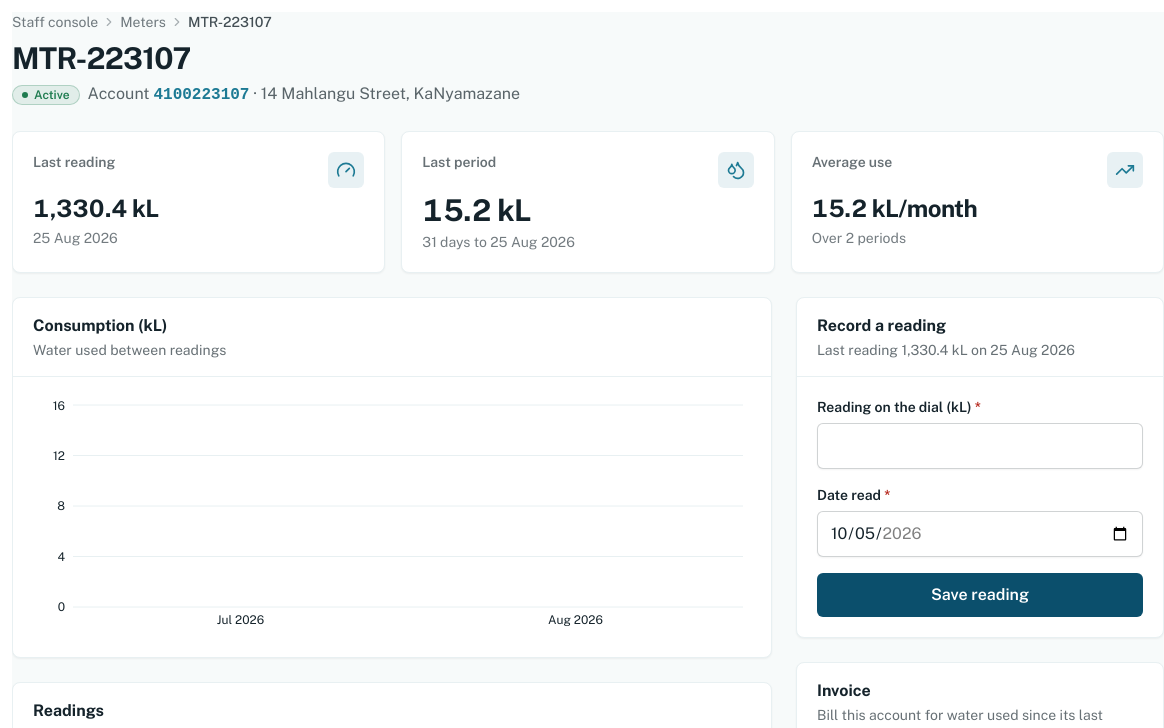
Test: MeterDetailPage › saves a normal reading, confirms the use, and reloads
Check: the heading "Record a reading" is shown, box [817,316,946,335]
Type "1345.6" into the number field labelled "Reading on the dial (kL) *".
click(980, 446); type("1345.6")  # box [817,423,1143,469]
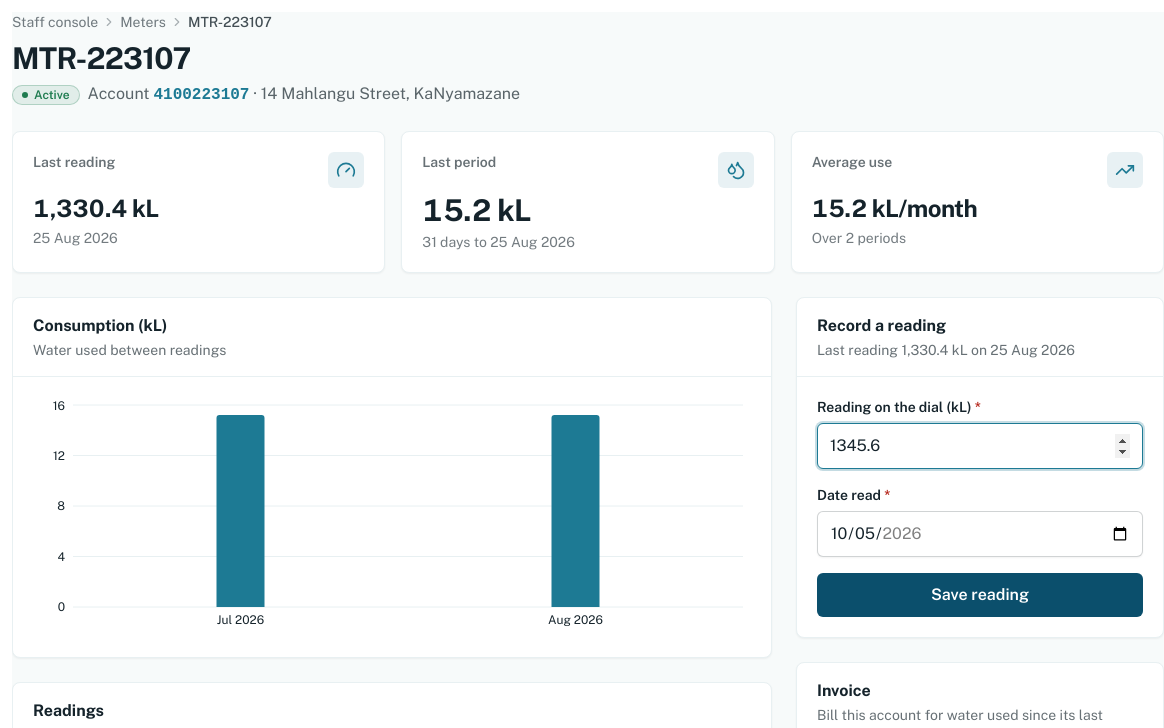
Click the button "Save reading".
click(980, 595)  # box [817,573,1143,617]
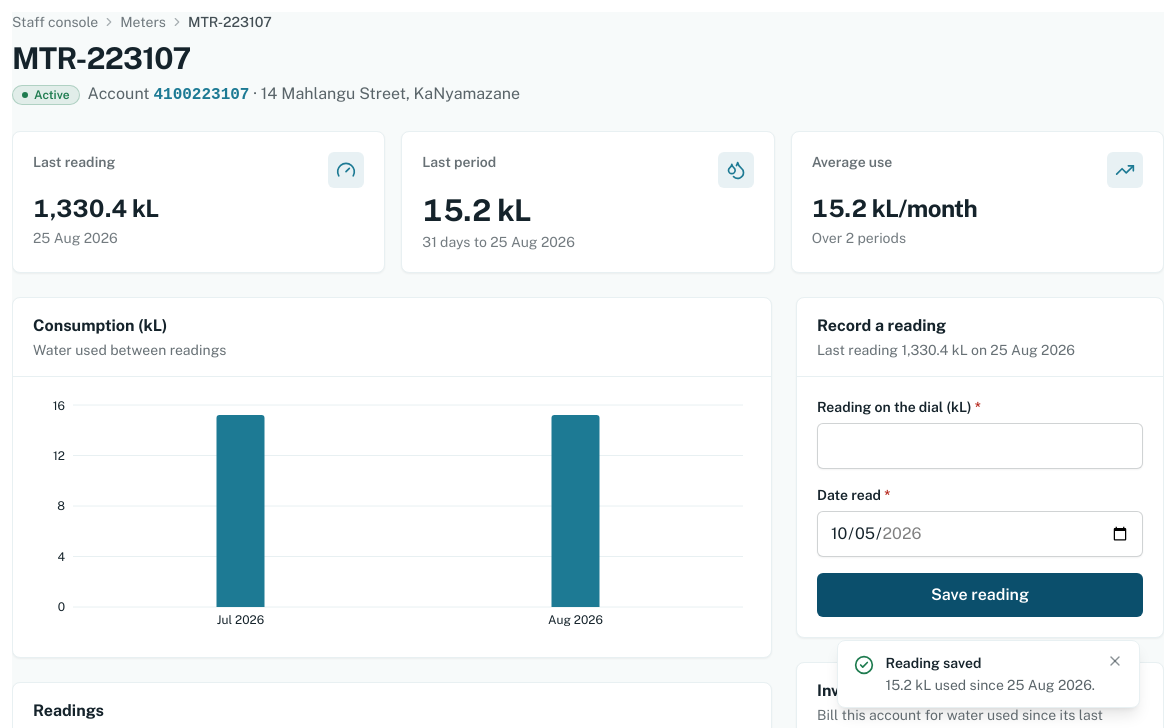
Check: the text "Reading saved" is shown, box [886,655,981,671]
